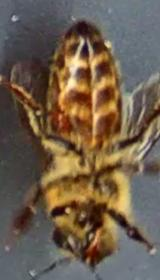varroa_mite: (46, 100, 74, 138)
